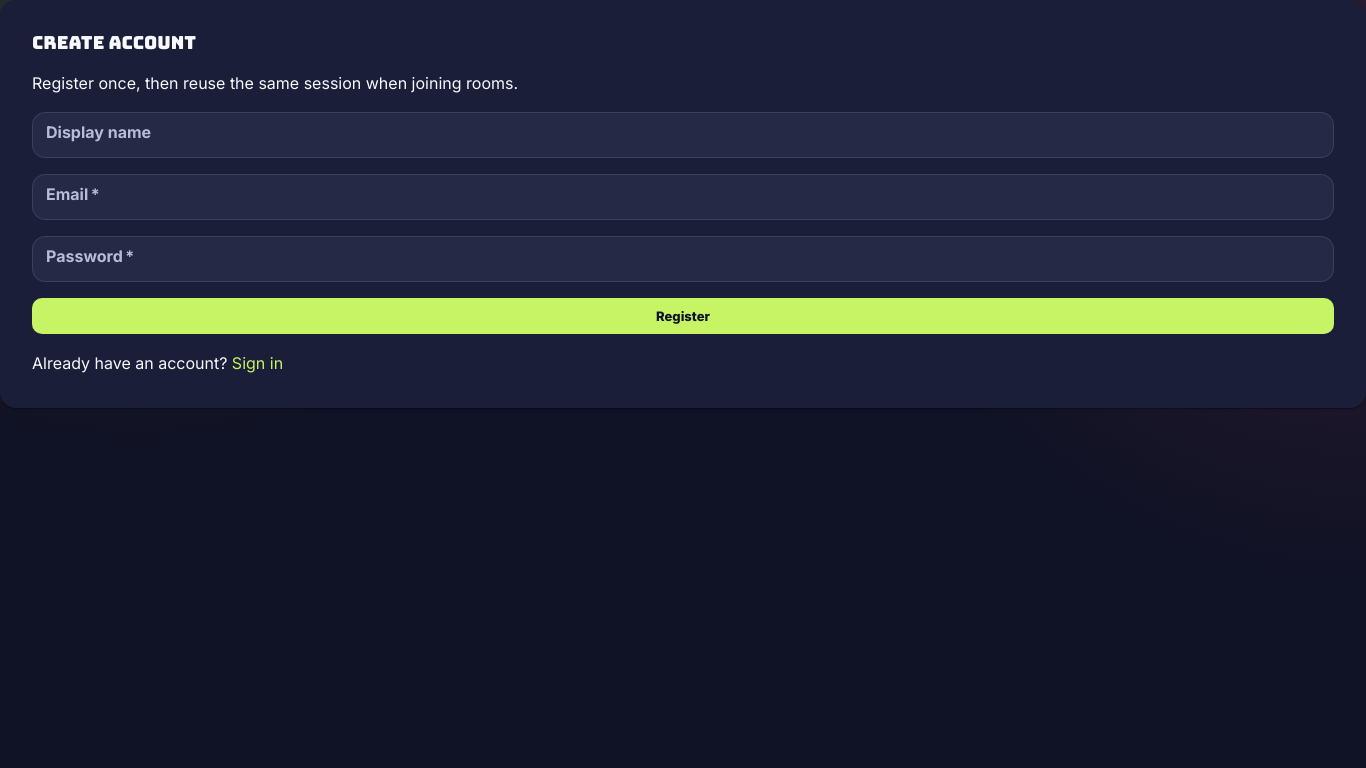
game-web app › supports registration and returns to sign in with the new email
Type "Nadia" into the field labelled "Display name". click: (683, 135)
box: [32,115,1334,155]
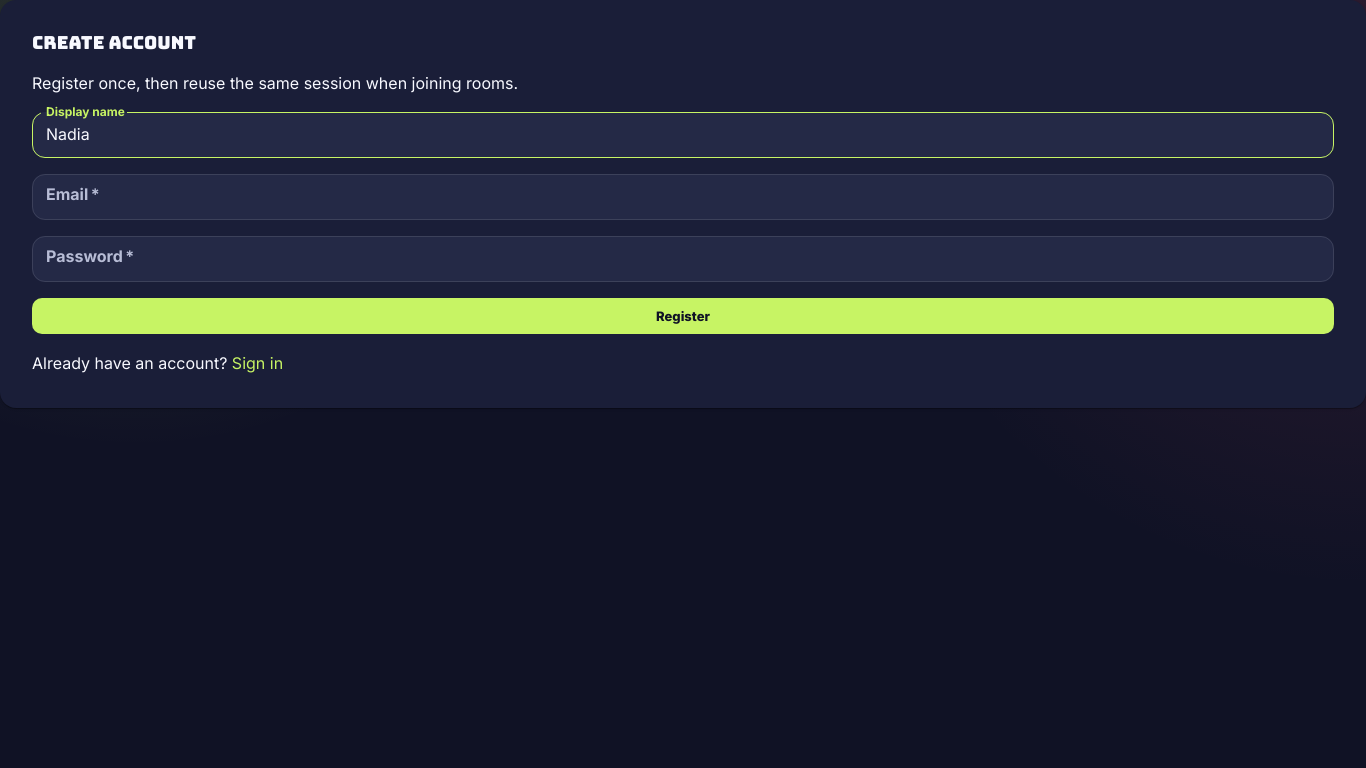
Type "new-user@example.com" into the field labelled "Email". click: (683, 197)
box: [32,177,1334,217]
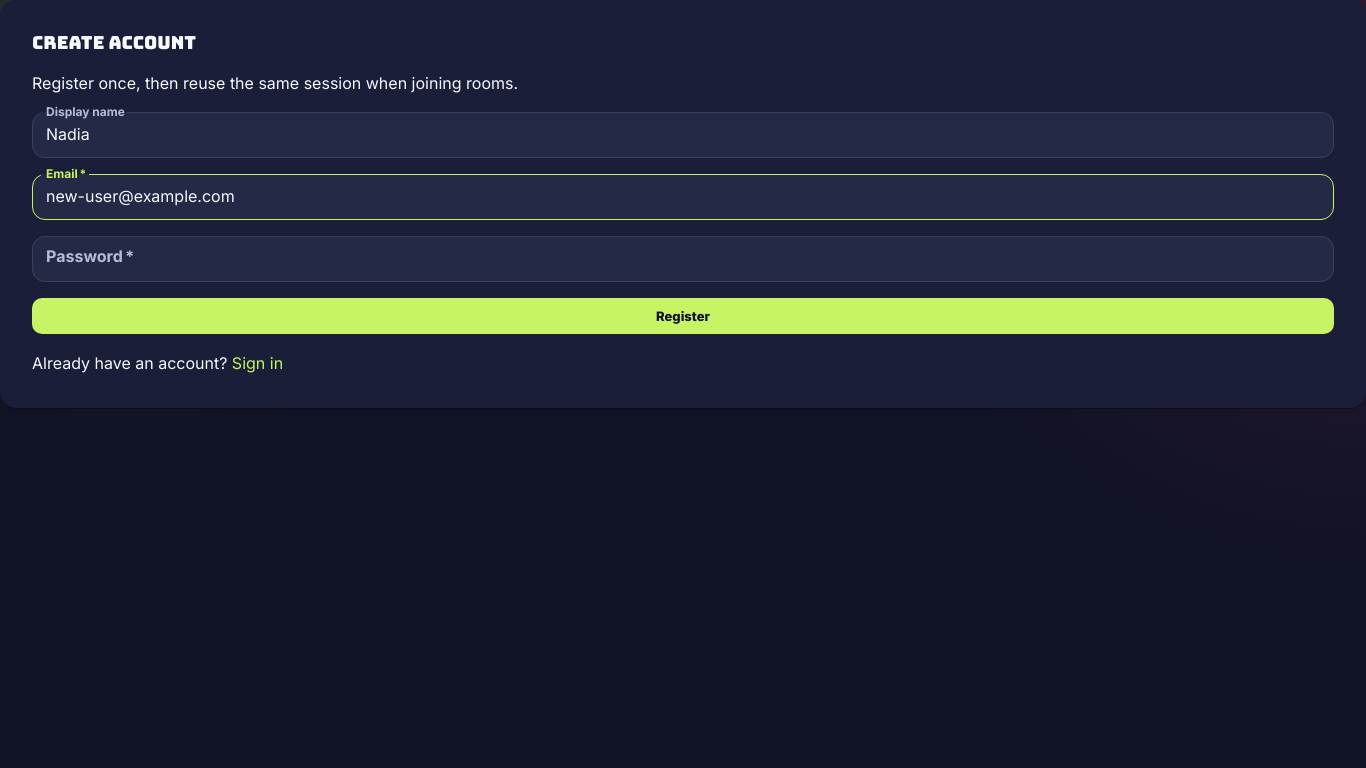
Type "change-this-password" into the password field labelled "Password *". click: (683, 259)
box: [32,239,1334,279]
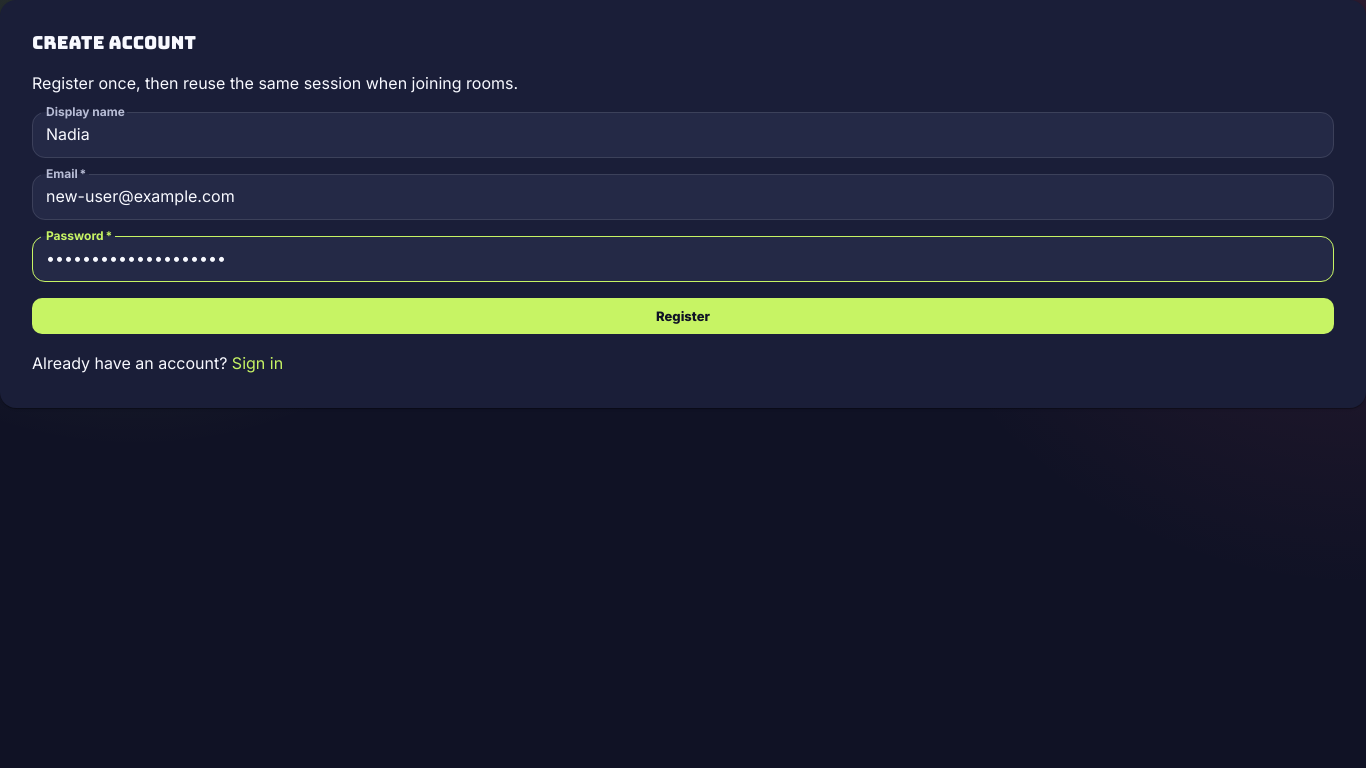
Click the button "Register". click: (683, 316)
box: [32,298,1334,334]
(page scrolled)
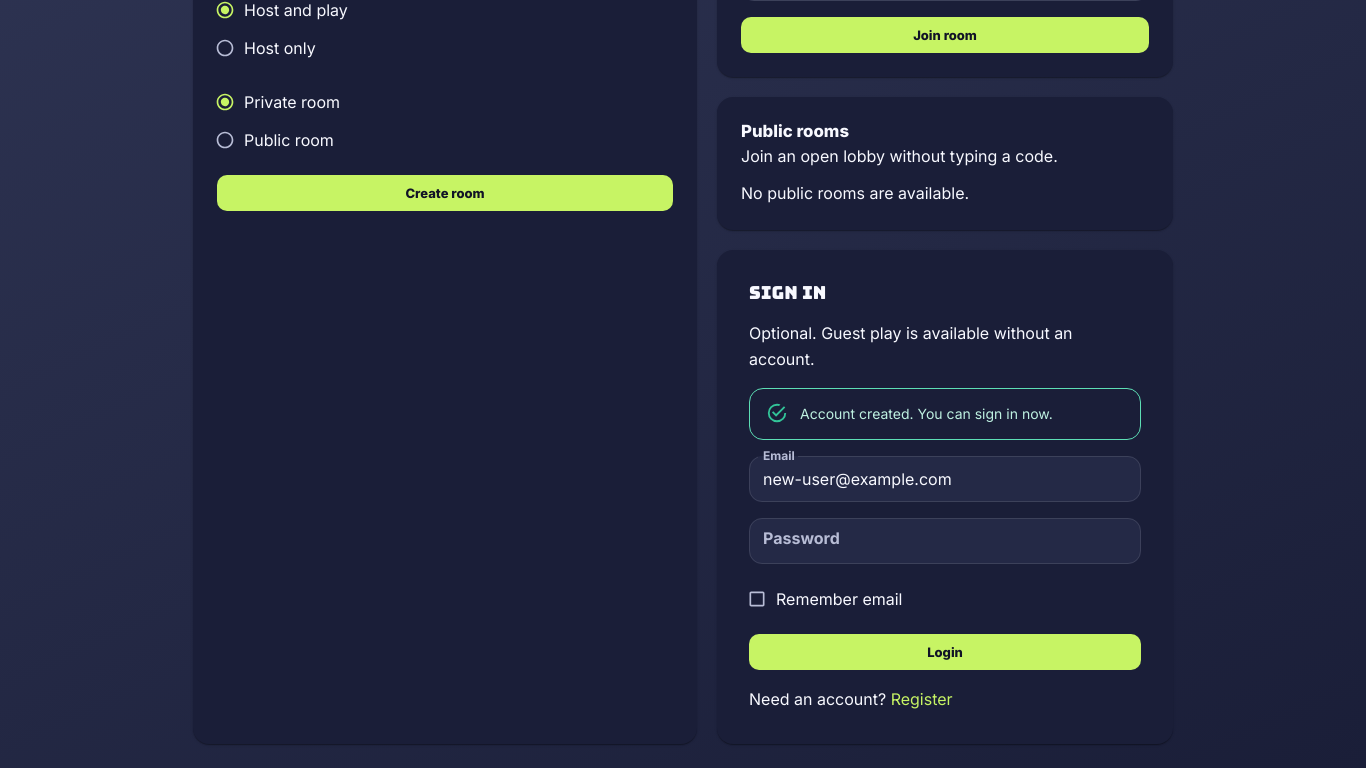
Expected: the text "Account created. You can sign in now." is shown, [800,405,1053,422]
Expected: the field labelled "Email" holds "new-user@example.com", [749,459,1141,499]
